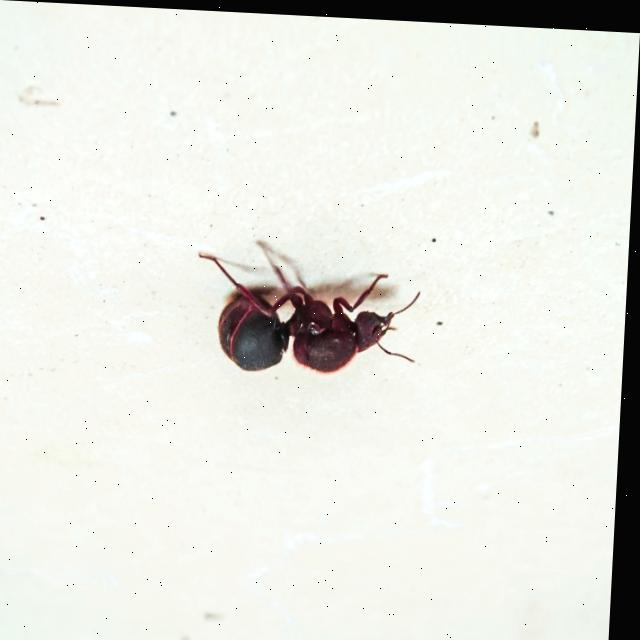Alive-Female-Dealate: (197, 234, 426, 377)
